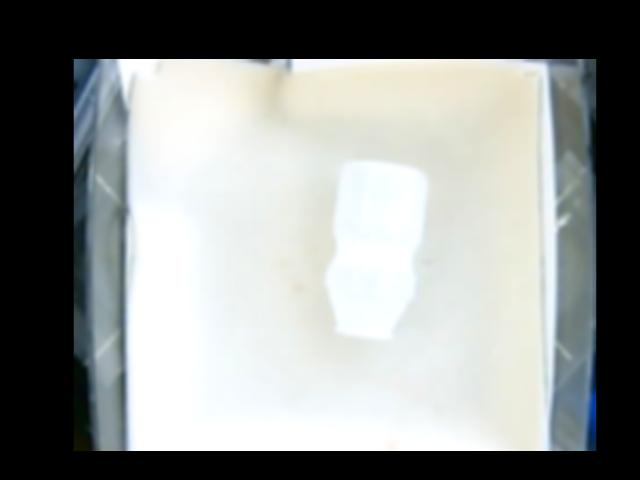Bottle: (326, 158, 428, 337)
